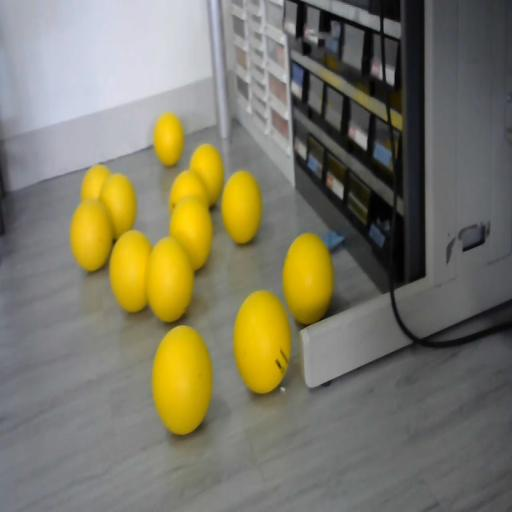FUEL: (151, 324, 213, 433), (232, 288, 292, 394), (281, 233, 333, 325), (109, 229, 152, 312), (169, 195, 214, 271), (70, 198, 114, 272), (221, 170, 262, 244), (189, 143, 225, 205), (153, 112, 184, 166), (81, 164, 112, 202)
